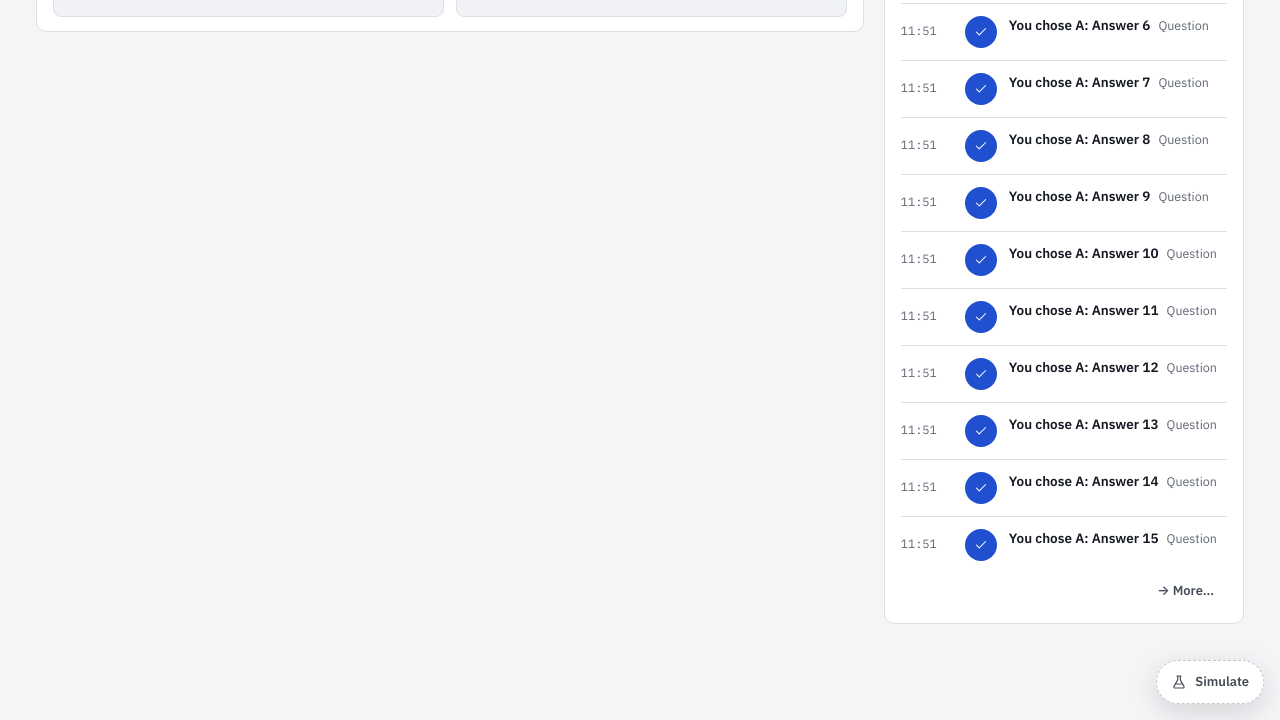
Test: Workspace Decisions and Documents › shows 15 History rows in Everything, opens History with More, and labels inbox rows Question
(page scrolled)
Expected: the text "You chose A: Answer 16" is not shown
Click the button "→ More…" at {"x": 1186, "y": 591}, box top-left (1144, 573), bottom-right (1227, 609)
(page scrolled)
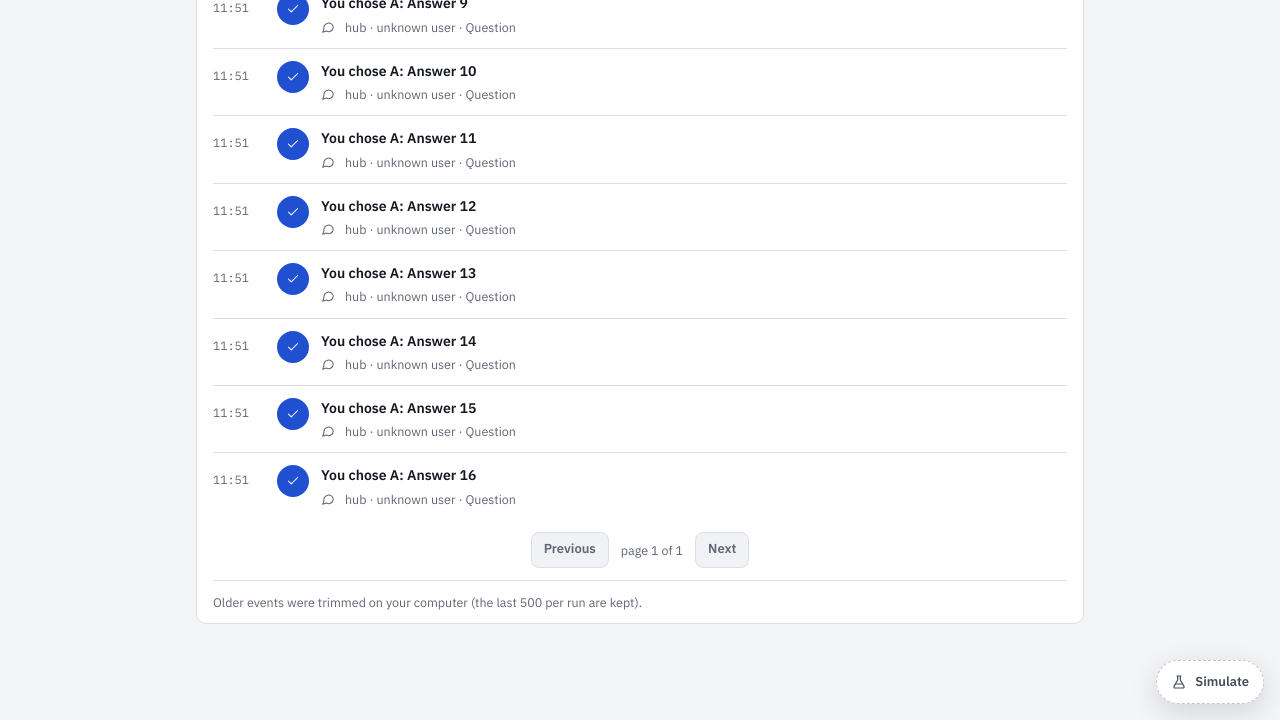
Now the text "You chose A: Answer 16" is shown, box top-left (321, 465), bottom-right (476, 486)
Now the text "page 1 of 1" is shown, box top-left (621, 541), bottom-right (683, 559)
